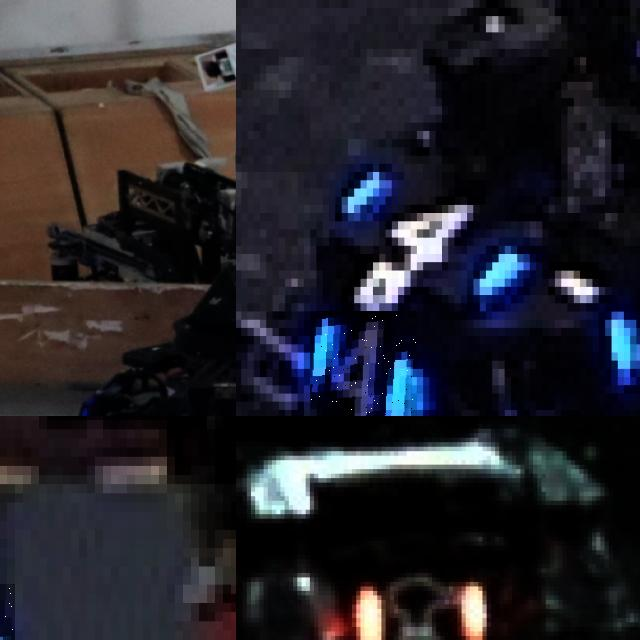B4: (310, 311, 416, 416), (598, 253, 640, 385)
Rs: (356, 577, 490, 640)
